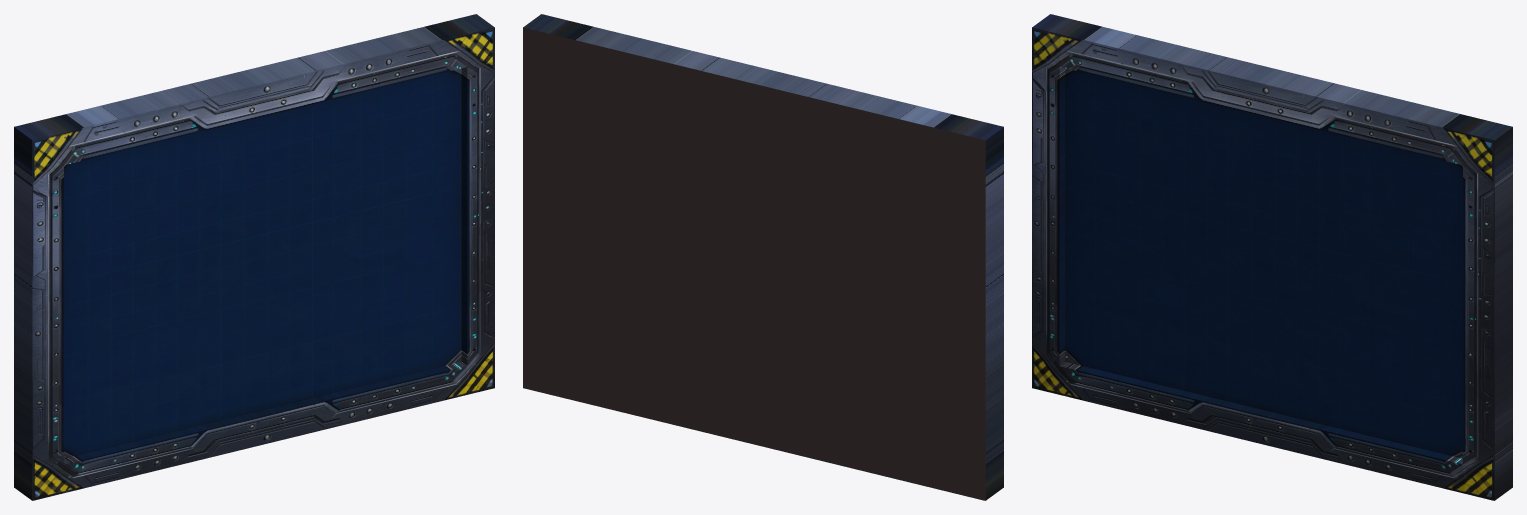
Rendered from panel_result.glb.
The picture shows the model from 3 angles, left to right: view 1: azimuth 30°, elevation 25°; view 2: azimuth 150°, elevation 25°; view 3: azimuth 330°, elevation 25°; orthographic projection.
Visible parts, largest first — view 1: panel_result; view 2: panel_result; view 3: panel_result.
Part boxes in pixels (left/top/right/bottom): panel_result: left=14, top=14, right=494, bottom=500; panel_result: left=523, top=14, right=1003, bottom=500; panel_result: left=1032, top=14, right=1512, bottom=500.
Bounding box in the file's own units: 0.55 × 0.41 × 0.042.
1 material, 1 textured.
